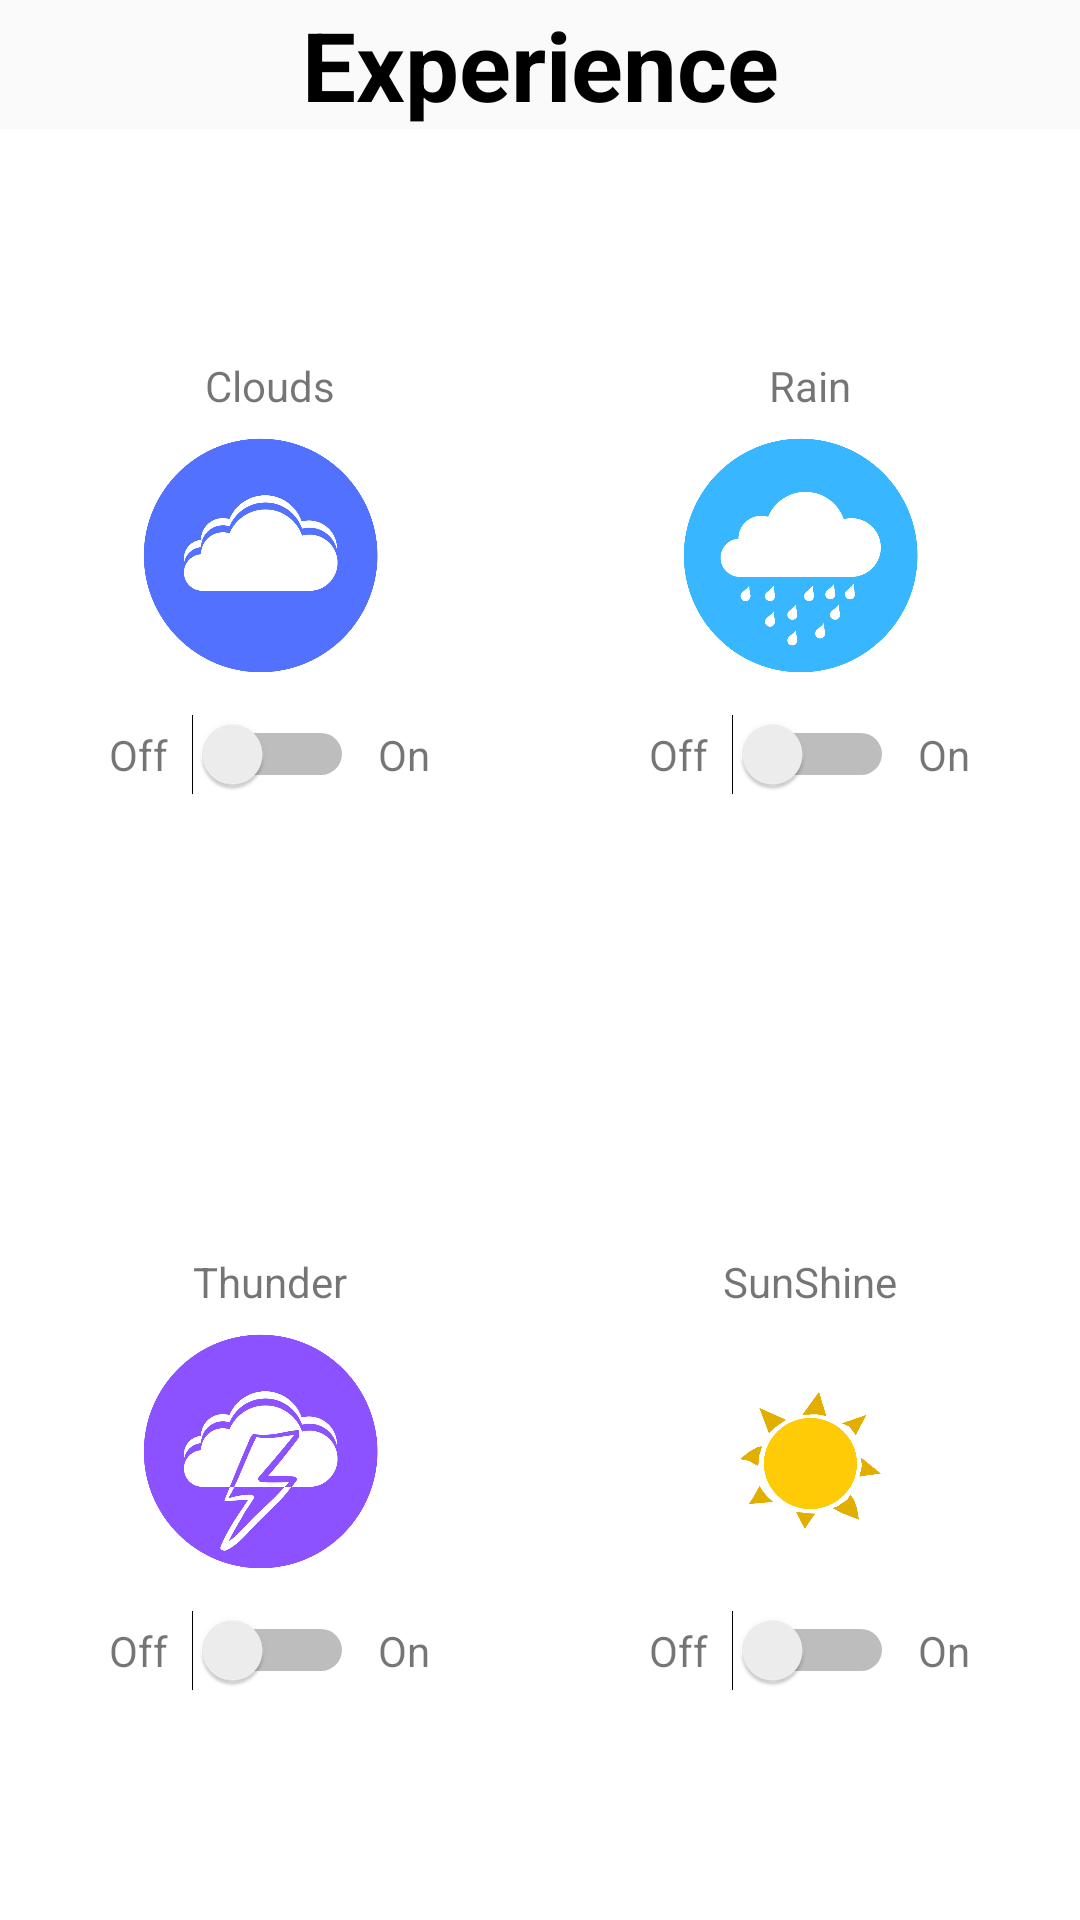

Icon click points for this 1080w x 1920h phone screenshot, format (x,y):
sunlight: (810,1460)
